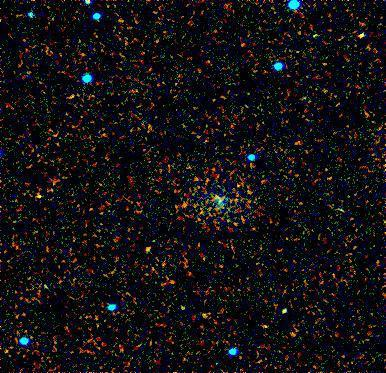star: (132, 233, 162, 263)
